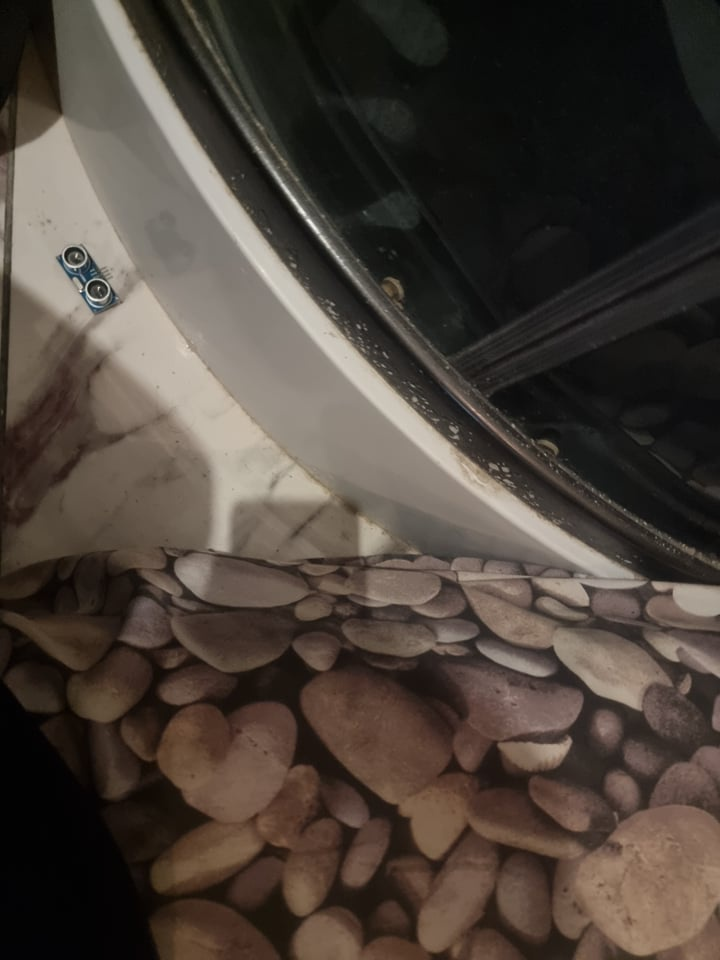SENSOR: (54, 242, 122, 314)
